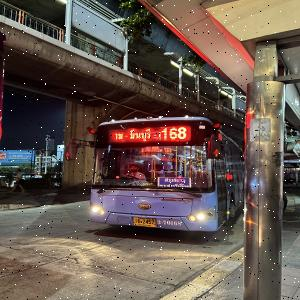BMTA-bus: (89, 117, 244, 233)
Bus Line Number: (159, 125, 191, 140)
Bus Side Number: (156, 218, 183, 228)
Destination Sign: (159, 176, 189, 188)
